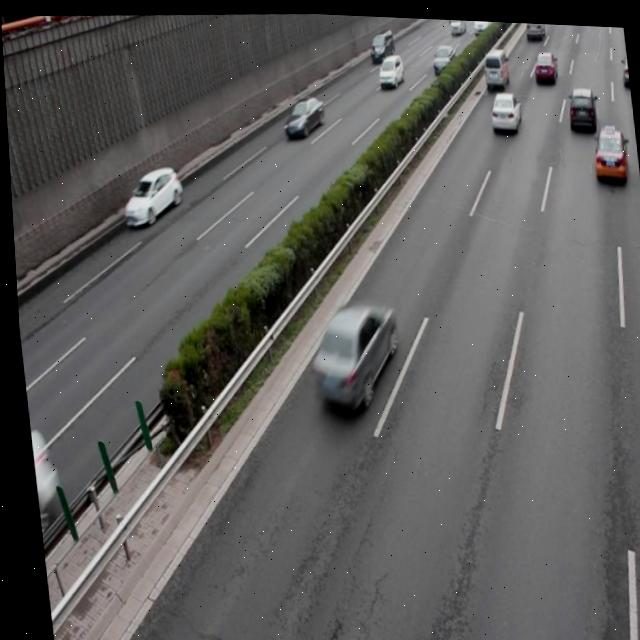car: (299, 296, 399, 409), (116, 161, 184, 228), (586, 116, 626, 179), (279, 92, 326, 138), (563, 81, 597, 130), (485, 85, 521, 129)
